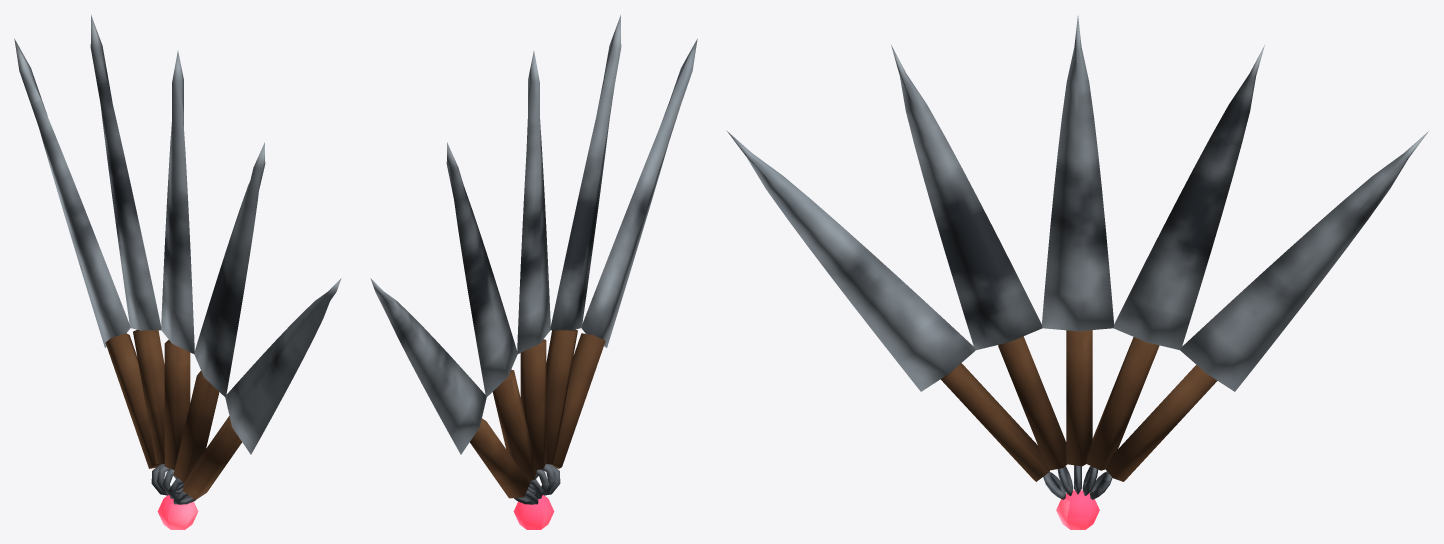
The model's file is KnifeFan.fbx.
3 renders of one model, left to right at view 1: azimuth 30°, elevation 25°; view 2: azimuth 150°, elevation 25°; view 3: azimuth 270°, elevation 25°, orthographic. The views are drawn at different scales.
Parts seen in each view (by area): view 1: KnifeFan; view 2: KnifeFan; view 3: KnifeFan.
Boxes of the visible parts, x1,y1,x2,y2 form: KnifeFan: (14, 15, 341, 529); KnifeFan: (370, 15, 697, 529); KnifeFan: (726, 16, 1429, 529).
Size of the model in its own units: 0.021 by 0.312 by 0.3857.
